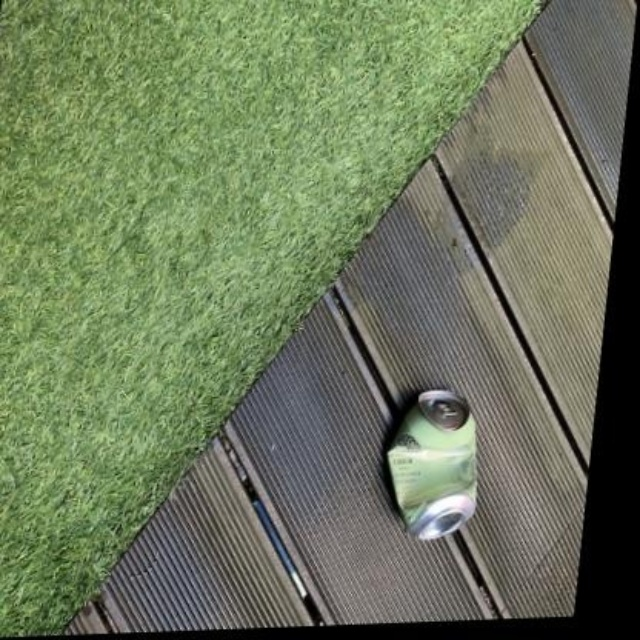trash: (388, 389, 475, 538)
